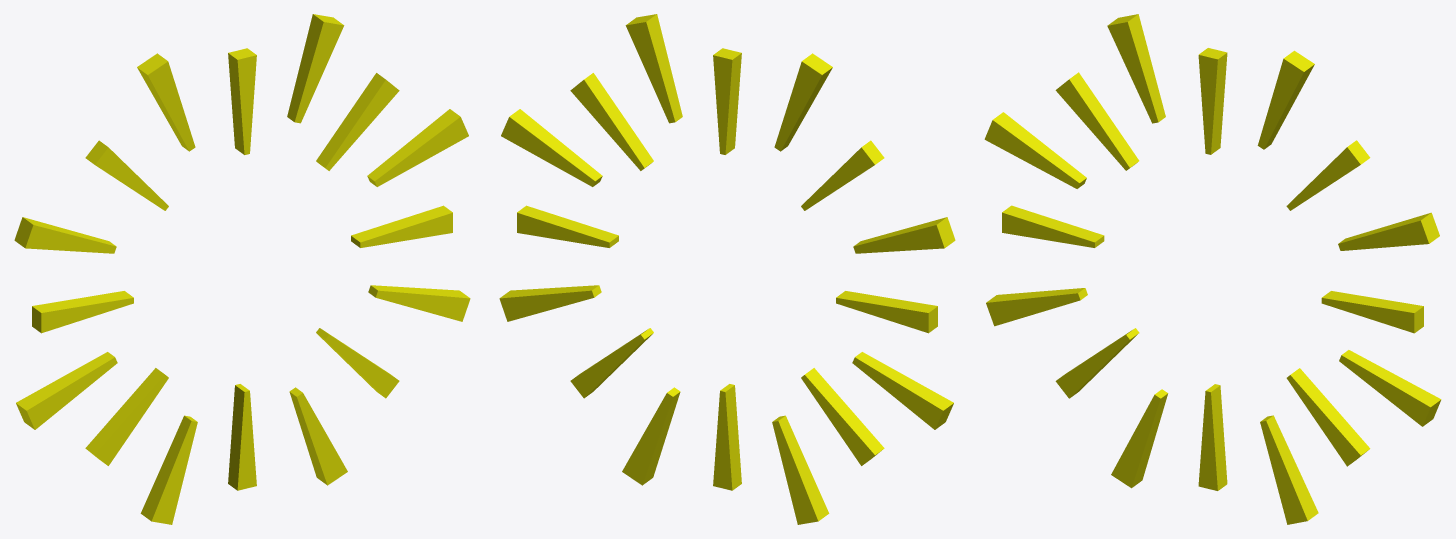
File: SunRay.fbx
3 renders of one model, left to right at view 1: azimuth 30°, elevation 25°; view 2: azimuth 150°, elevation 25°; view 3: azimuth 330°, elevation 25°, orthographic.
Visible parts, largest first — view 1: Ray6, Ray14, Ray7, Ray15, Ray5, Ray13, Ray1, Ray12, Ray8, Ray16, Ray2, Ray11 (+4 smaller); view 2: Ray6, Ray14, Ray7, Ray15, Ray5, Ray13, Ray1, Ray12, Ray8, Ray16, Ray2, Ray11 (+4 smaller); view 3: Ray2, Ray11, Ray4, Ray10, Ray3, Ray9, Ray1, Ray12, Ray8, Ray16, Ray6, Ray14 (+4 smaller).
Part boxes in pixels (x1=…): Ray6: x1=140, y1=415, x2=197, y2=524; Ray14: x1=287, y1=14, x2=344, y2=123; Ray7: x1=16, y1=352, x2=117, y2=429; Ray15: x1=367, y1=109, x2=468, y2=186; Ray5: x1=85, y1=368, x2=168, y2=465; Ray13: x1=316, y1=73, x2=399, y2=170; Ray1: x1=228, y1=48, x2=256, y2=154; Ray12: x1=228, y1=384, x2=256, y2=490; Ray8: x1=32, y1=291, x2=133, y2=333; Ray16: x1=351, y1=205, x2=452, y2=247; Ray2: x1=137, y1=53, x2=195, y2=151; Ray11: x1=289, y1=387, x2=347, y2=485; Ray6: x1=772, y1=415, x2=829, y2=524; Ray14: x1=625, y1=14, x2=682, y2=123; Ray7: x1=852, y1=352, x2=953, y2=429; Ray15: x1=501, y1=109, x2=602, y2=186; Ray5: x1=801, y1=368, x2=884, y2=465; Ray13: x1=570, y1=73, x2=653, y2=170; Ray1: x1=713, y1=48, x2=741, y2=154; Ray12: x1=713, y1=384, x2=741, y2=490; Ray8: x1=836, y1=291, x2=937, y2=333; Ray16: x1=517, y1=205, x2=618, y2=247; Ray2: x1=774, y1=53, x2=832, y2=151; Ray11: x1=622, y1=387, x2=680, y2=485; Ray2: x1=1107, y1=14, x2=1165, y2=123; Ray11: x1=1260, y1=415, x2=1318, y2=524; Ray4: x1=984, y1=112, x2=1086, y2=188; Ray10: x1=1339, y1=350, x2=1441, y2=426; Ray3: x1=1055, y1=72, x2=1139, y2=170; Ray9: x1=1286, y1=368, x2=1370, y2=466; Ray1: x1=1198, y1=48, x2=1227, y2=154; Ray12: x1=1198, y1=384, x2=1227, y2=490; Ray8: x1=1002, y1=205, x2=1104, y2=247; Ray16: x1=1321, y1=291, x2=1423, y2=333; Ray6: x1=1111, y1=389, x2=1168, y2=488; Ray14: x1=1257, y1=50, x2=1314, y2=149.
Bounding box in the file's own units: 82.16 × 82.16 × 3.48.
